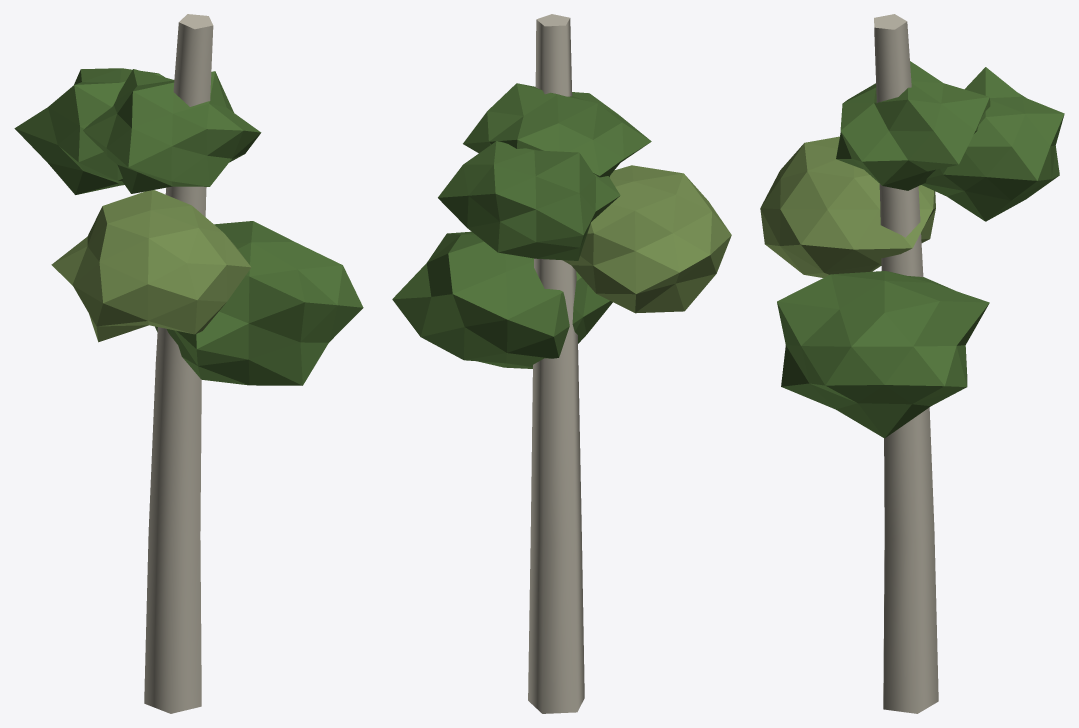
The model's file is land-forest-09.glb.
The picture shows the model from 3 angles, left to right: view 1: azimuth 30°, elevation 25°; view 2: azimuth 150°, elevation 25°; view 3: azimuth 270°, elevation 25°; orthographic projection.
Visible parts, largest first — view 1: land.forest.09; view 2: land.forest.09; view 3: land.forest.09.
Part boxes in pixels (bbox=[...]): land.forest.09: bbox=[14, 14, 363, 713]; land.forest.09: bbox=[392, 14, 731, 713]; land.forest.09: bbox=[760, 14, 1064, 713].
Bounding box in the file's own units: 1.39 × 3.28 × 1.32.
